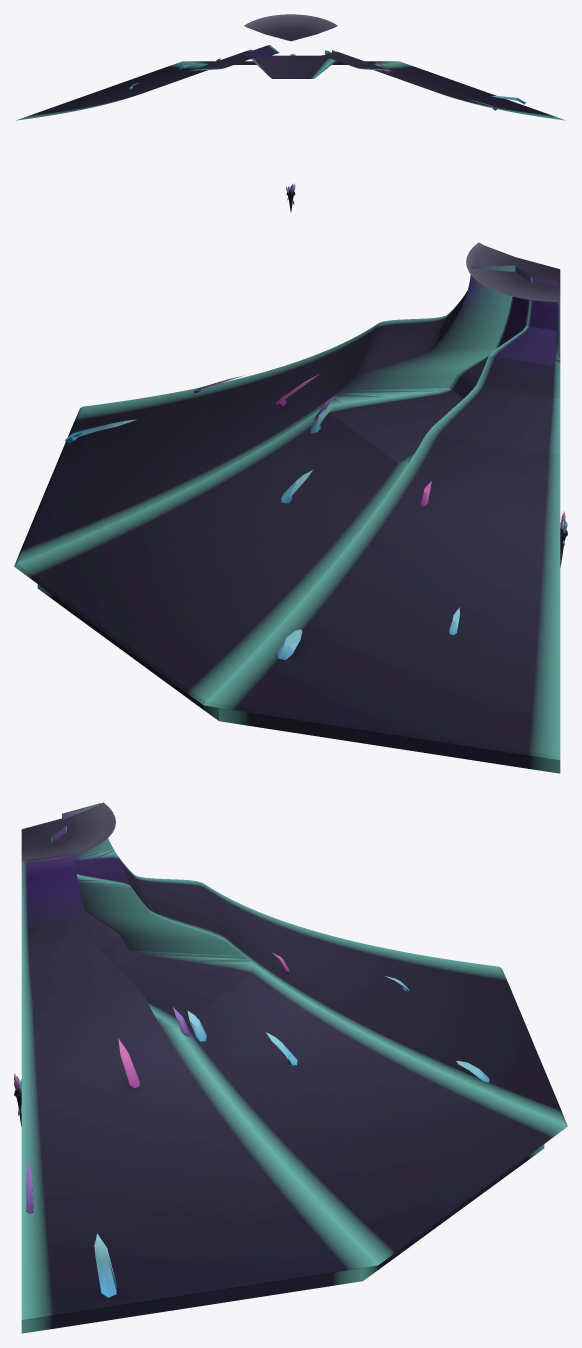
The model's file is caverns-s2-DL-6zGSe.glb.
3 renders of one model, top to bottom at view 1: azimuth 30°, elevation 25°; view 2: azimuth 150°, elevation 25°; view 3: azimuth 270°, elevation 25°, orthographic. The views are drawn at different scales.
Parts seen in each view (by area): view 1: sc_landmark_0; view 2: sc_landmark_0; view 3: sc_landmark_0.
Part boxes in pixels (bbox=[...]): sc_landmark_0: bbox=[16, 14, 565, 120]; sc_landmark_0: bbox=[14, 242, 560, 773]; sc_landmark_0: bbox=[21, 802, 567, 1333].
Size of the model in its own units: 644 by 261 by 429.
